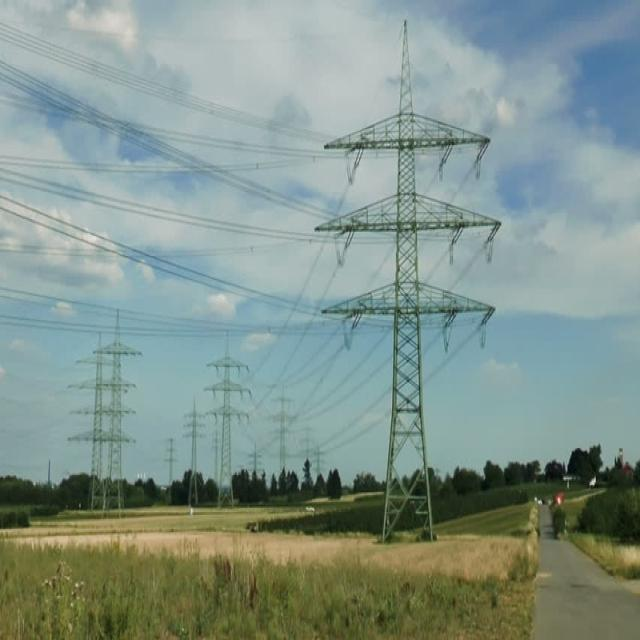non-critical vegetation: (342, 28, 483, 498), (82, 308, 134, 514), (206, 332, 248, 514)
